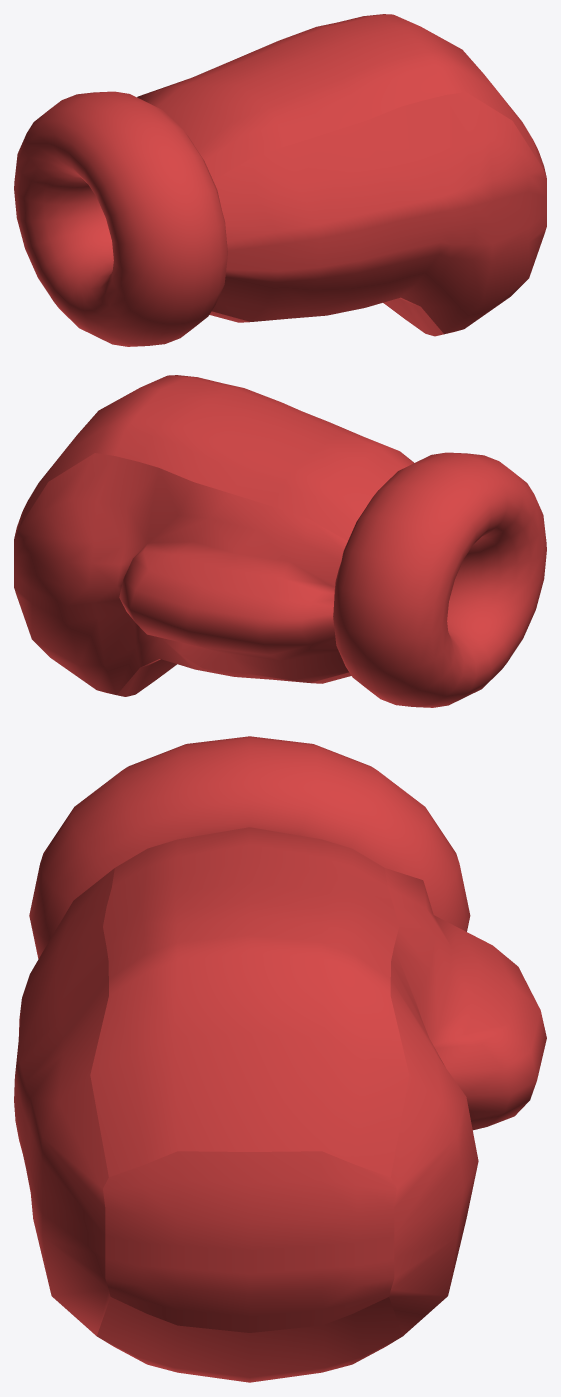
File: BoxingGlovesR.fbx
3 views of the same model, one above another, from view 1: azimuth 30°, elevation 25°; view 2: azimuth 150°, elevation 25°; view 3: azimuth 270°, elevation 25° (orthographic). The views are drawn at different scales.
Parts seen in each view (by area): view 1: pTorus2; view 2: pTorus2; view 3: pTorus2.
Boxes of the visible parts, x1=… form: pTorus2: x1=14, y1=14, x2=546, y2=346; pTorus2: x1=14, y1=375, x2=546, y2=707; pTorus2: x1=14, y1=736, x2=546, y2=1382.
Bounding box in the file's own units: 1.76 × 1.1 × 1.23.
